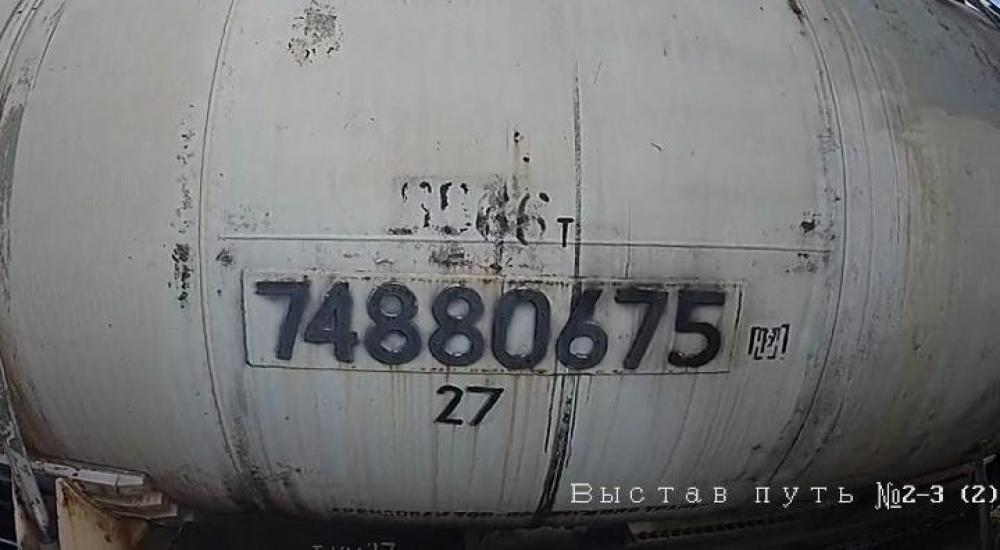Wagon-number: (252, 268, 727, 373)
